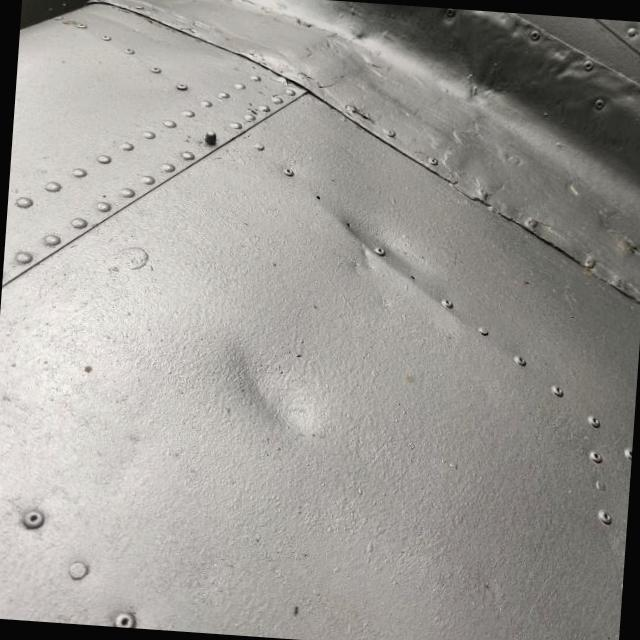dent: (172, 298, 372, 498)
